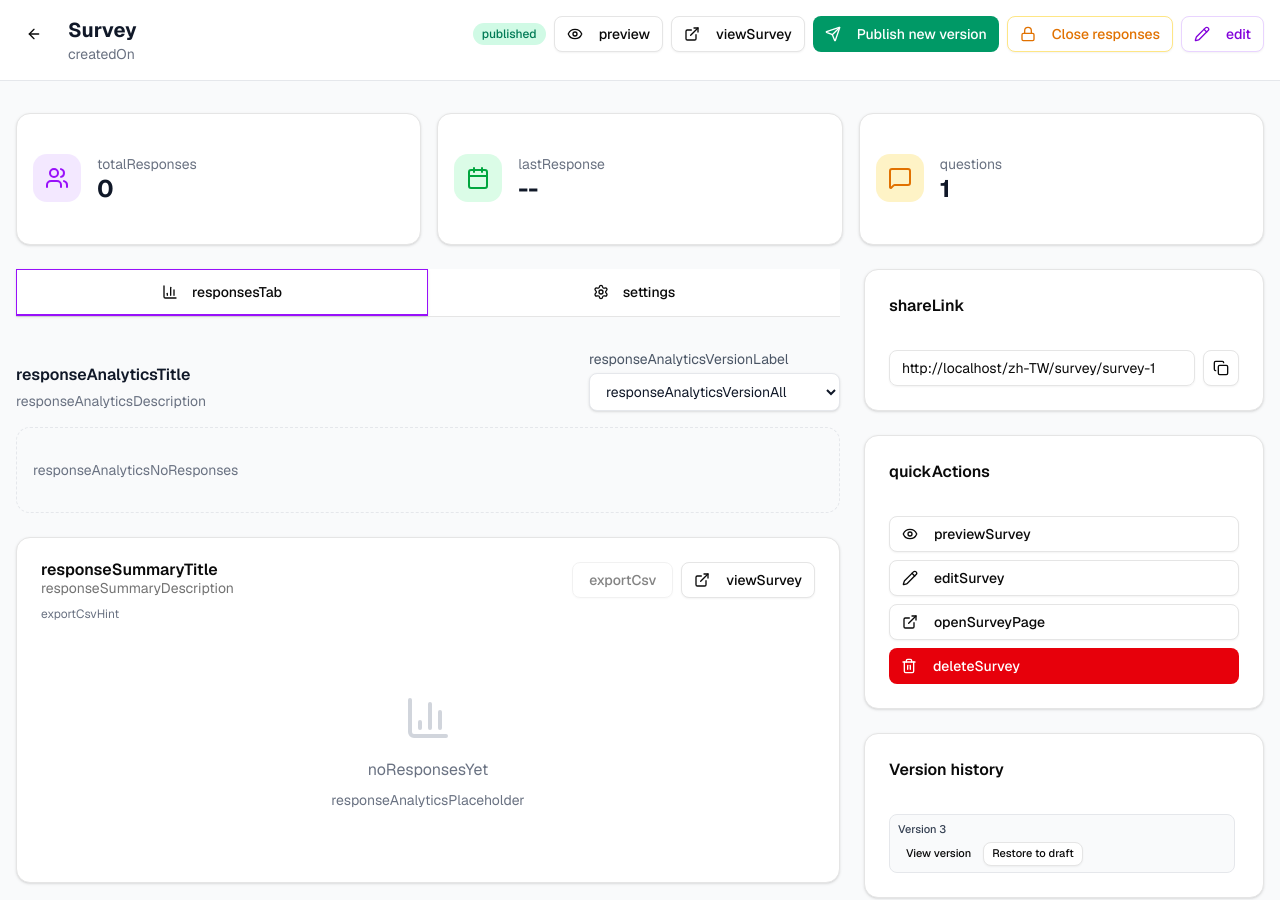
Test: SurveyManagementPage publish new version › does not disable publish confirmation for already-live boost that was charged on save
The width and height of the screenshot is (1280, 900).
Step 1. Click the button "Publish new version" → (906, 34), box [813,16,999,52]
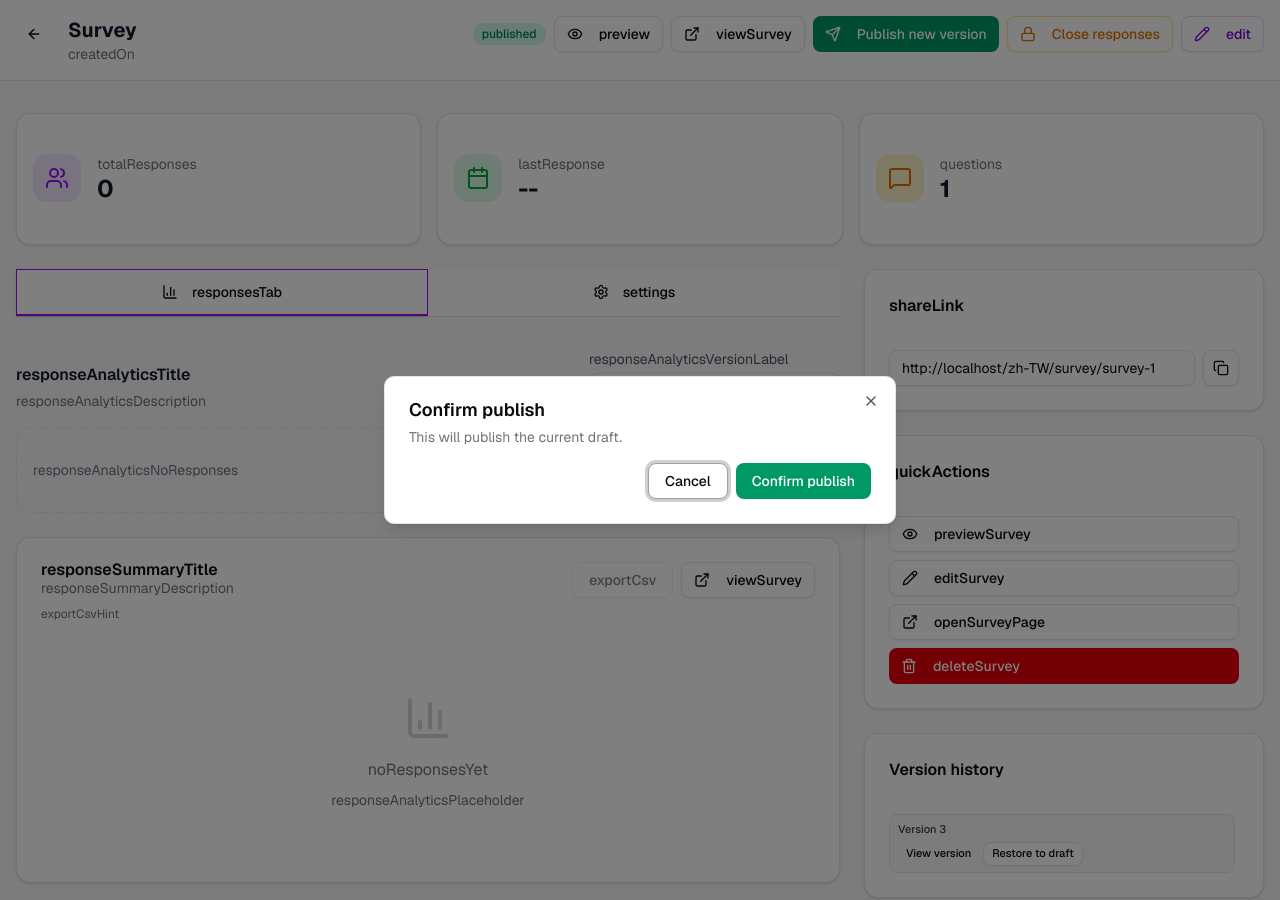
expect the button "Confirm publish" is shown: met, box [736,463,871,499]
